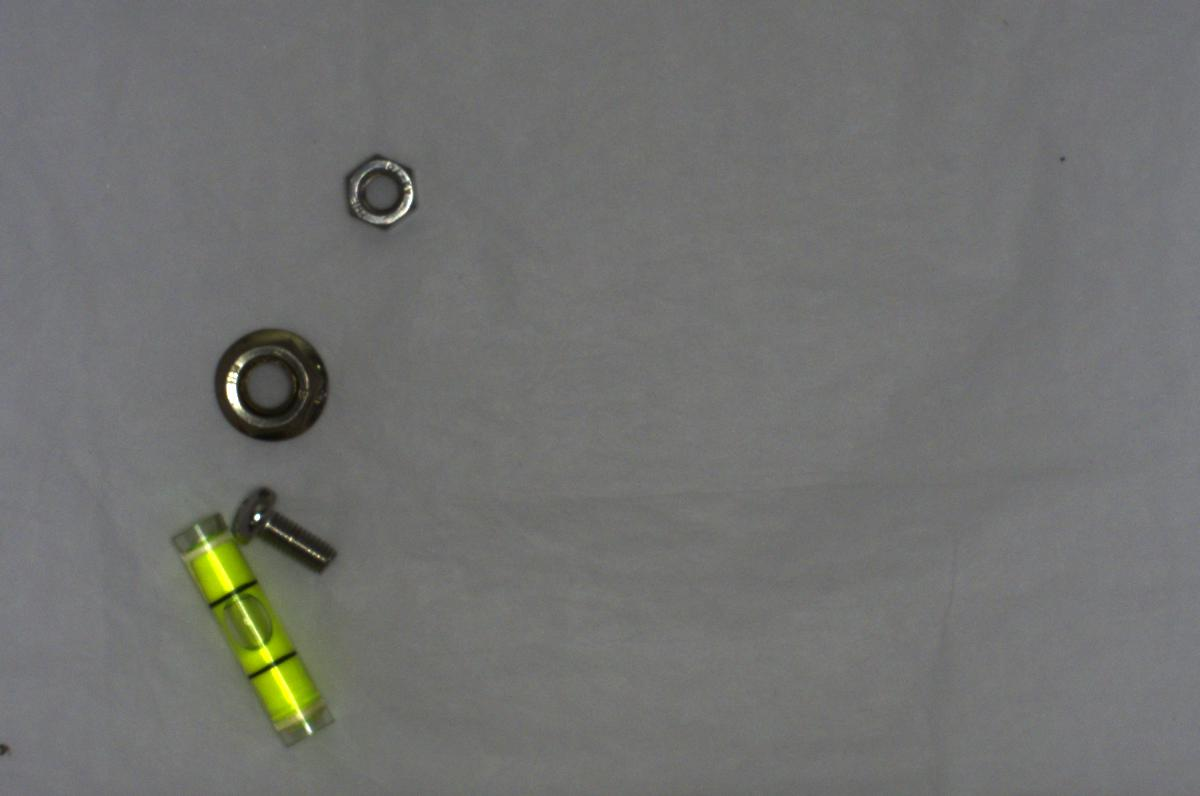Flange nut: (204, 314, 333, 442)
Hexagon nut: (338, 143, 424, 236)
Horizontal bubble: (162, 505, 337, 752)
Round head screw: (225, 485, 340, 575)
